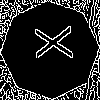X: (25, 25, 73, 61)
